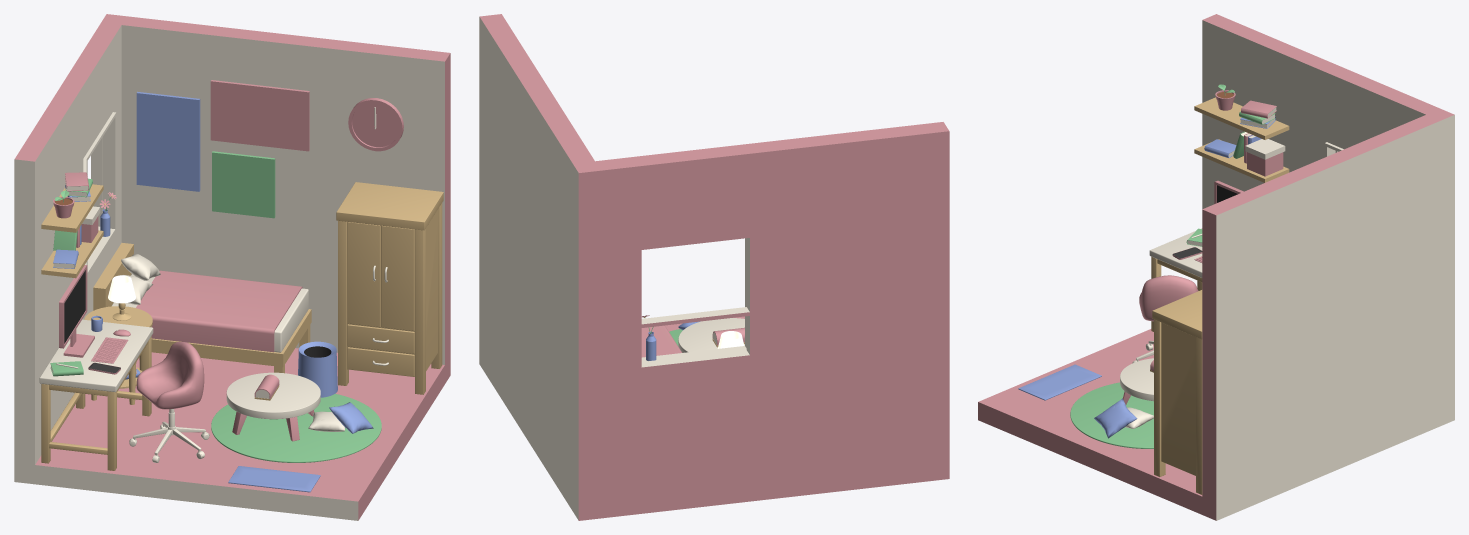
Rendered from MiniRoomFull.glb.
3 views of the same model, side by side, from view 1: azimuth 30°, elevation 25°; view 2: azimuth 150°, elevation 25°; view 3: azimuth 270°, elevation 25° (orthographic). The views are drawn at different scales.
Visible parts, largest first — view 1: stage, closet_body, bed_frame, desk, carpet, picture02_plane, picture01_plane, picture03_plane, table_body, chair_seat, clock_base, trash (+13 smaller); view 2: stage, table_body, bed_frame; view 3: stage, closet_body, carpet, desk, chair_seat, entrance-mat, wall-shelf01_base, table_body, wall-shelf02_box, wall-shelf02_base, cushion02.
Boxes of the visible parts, box(x1,y1,x2,y2) form: stage: box(14, 14, 450, 520); closet_body: box(336, 182, 443, 394); bed_frame: box(93, 243, 311, 373); desk: box(39, 319, 153, 470); carpet: box(211, 393, 381, 462); picture02_plane: box(210, 81, 308, 151); picture01_plane: box(136, 93, 199, 191); picture03_plane: box(212, 152, 274, 218); table_body: box(226, 372, 320, 441); chair_seat: box(136, 342, 204, 409); clock_base: box(348, 98, 403, 151); trash: box(298, 341, 337, 397); stage: box(479, 14, 949, 520); table_body: box(678, 318, 744, 352); bed_frame: box(641, 325, 681, 357); stage: box(978, 14, 1454, 520); closet_body: box(1152, 290, 1202, 494); carpet: box(1070, 382, 1153, 448); desk: box(1149, 228, 1202, 331); chair_seat: box(1139, 275, 1198, 321); entrance-mat: box(1018, 364, 1101, 400); wall-shelf01_base: box(1194, 97, 1289, 139); table_body: box(1120, 358, 1153, 404); wall-shelf02_box: box(1245, 139, 1285, 176); wall-shelf02_base: box(1194, 139, 1289, 182); cushion02: box(1094, 398, 1137, 438).
Size of what is drawn, in the model's own units: 14.14 by 10 by 14.14.
